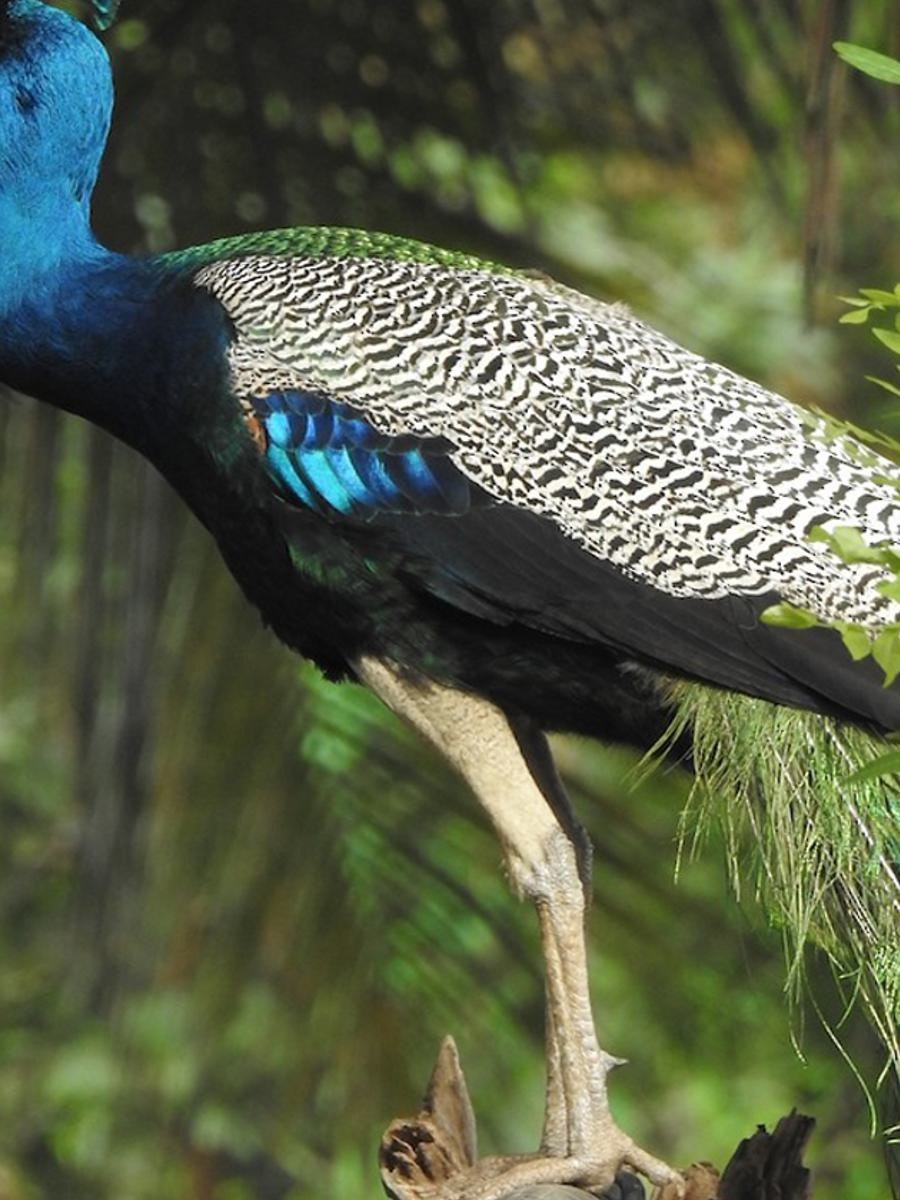peacock: (8, 12, 900, 1046)
